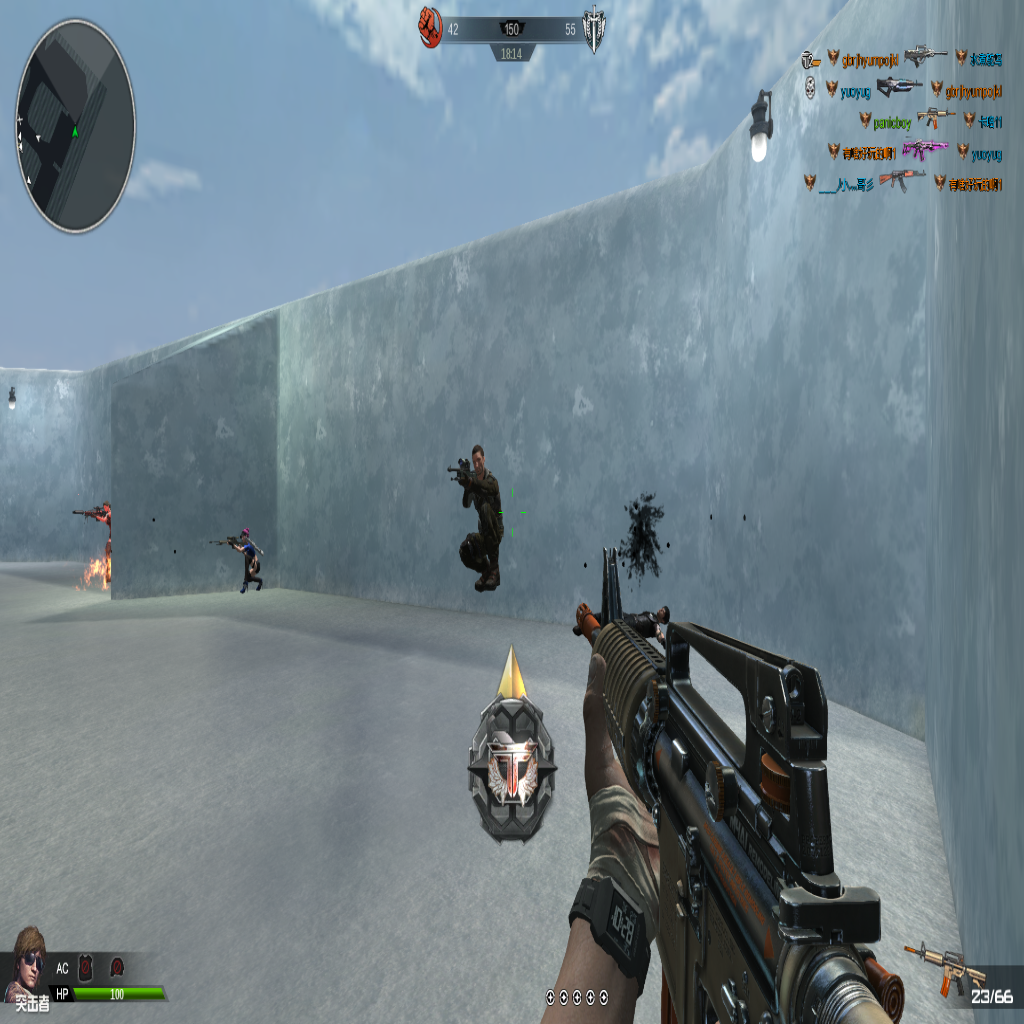ct: (451, 444, 502, 593), (220, 522, 265, 593)
